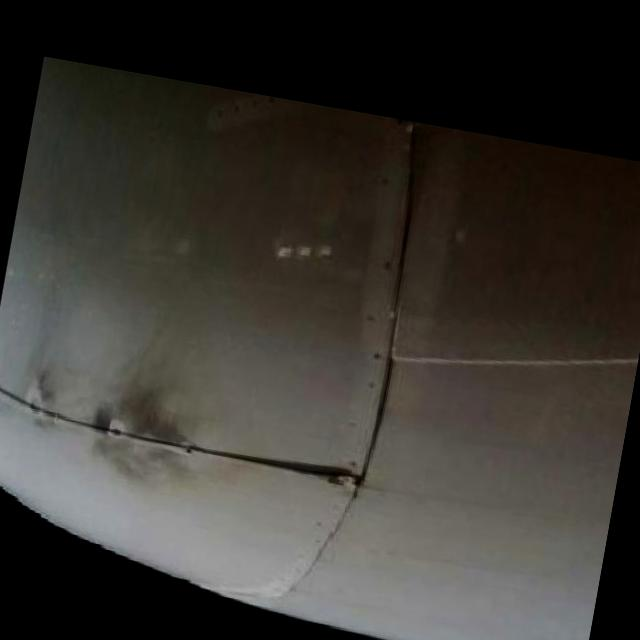crack: (203, 445, 354, 486)
